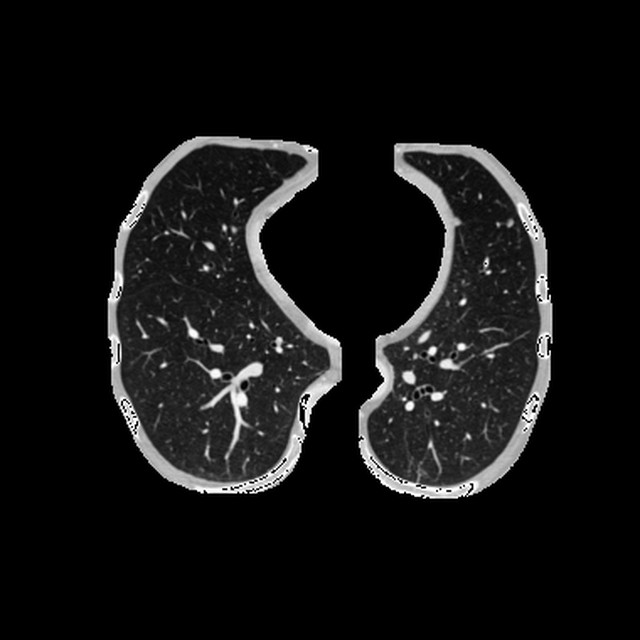PN: (507, 219, 514, 226)
